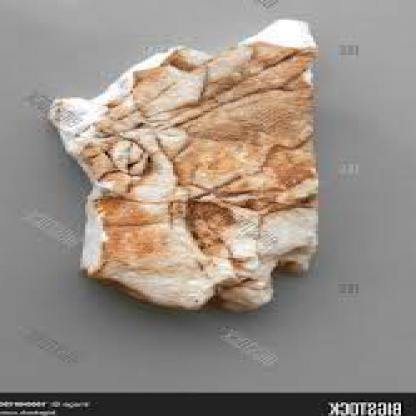Metamorphic_Marble: (45, 6, 343, 310)
